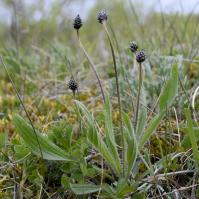buckhorn plantain: (26, 11, 170, 191)
